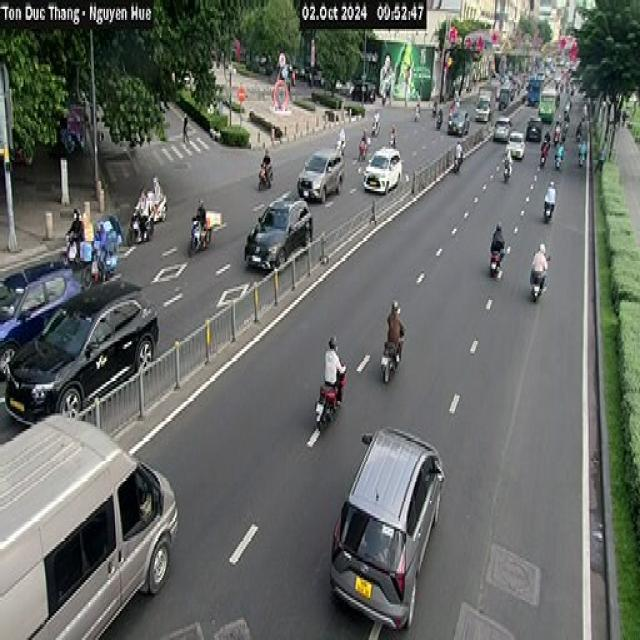bus: (526, 59, 546, 108)
car: (0, 431, 182, 638), (335, 434, 445, 628), (1, 275, 154, 414), (0, 257, 93, 357), (238, 192, 315, 282), (295, 134, 352, 209), (363, 144, 404, 222), (442, 100, 470, 148), (508, 116, 530, 163), (529, 106, 545, 154), (494, 112, 508, 161)
motorcycle: (378, 334, 412, 385), (320, 370, 346, 436), (183, 224, 219, 253), (58, 245, 88, 277), (122, 209, 154, 238), (487, 249, 506, 288), (146, 201, 171, 227), (540, 195, 559, 228), (531, 274, 547, 312), (357, 136, 375, 167), (260, 168, 280, 194), (449, 160, 469, 184), (498, 168, 518, 191), (573, 152, 587, 184), (546, 140, 557, 171), (552, 148, 564, 176), (436, 112, 448, 138), (331, 141, 347, 159), (368, 118, 382, 138), (538, 152, 548, 178), (410, 112, 424, 128), (428, 108, 438, 122)
person: (383, 292, 407, 359), (320, 336, 346, 390), (147, 160, 169, 208), (70, 202, 87, 255), (535, 235, 550, 291), (492, 212, 508, 264), (137, 190, 154, 232), (179, 101, 193, 152), (542, 174, 558, 217), (190, 195, 208, 233), (332, 112, 350, 146), (260, 146, 274, 182), (552, 132, 564, 171), (541, 122, 555, 153), (500, 136, 514, 165), (448, 142, 468, 162), (536, 140, 550, 168), (374, 98, 383, 137), (360, 126, 370, 155), (429, 86, 440, 109), (391, 124, 400, 146), (415, 98, 423, 122), (579, 134, 586, 157), (437, 98, 442, 122)
truck: (476, 79, 501, 136)
